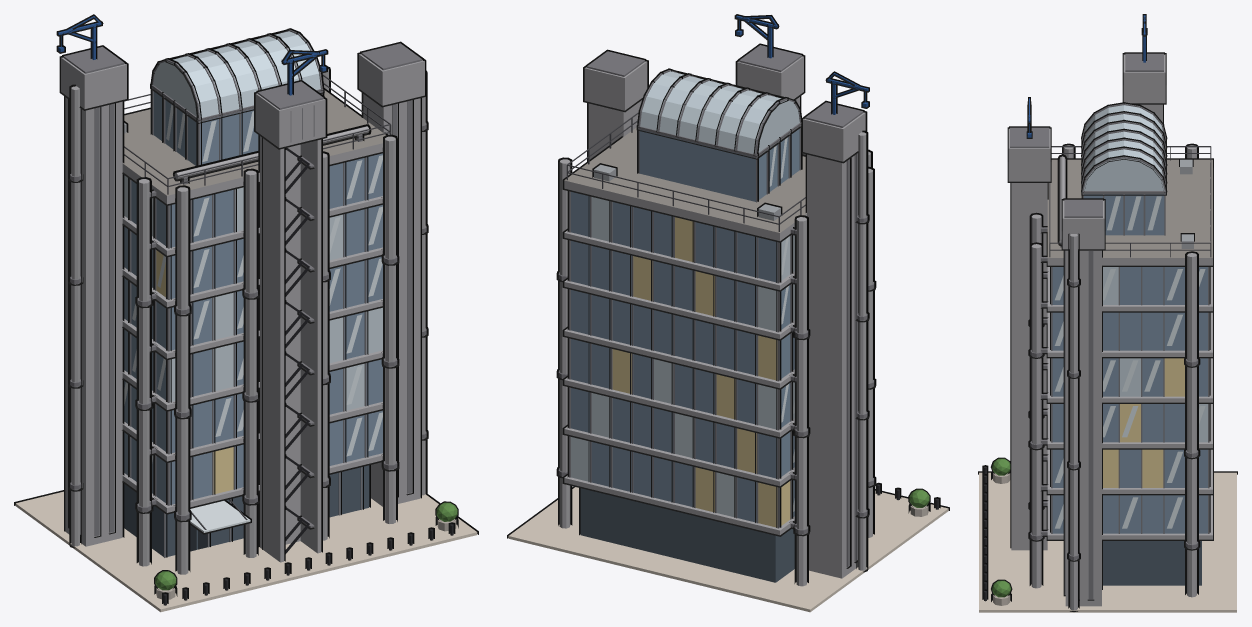
Rendered from OfisKulesi_karisik_1_1.fbx.
3 renders of one model, left to right at view 1: azimuth 30°, elevation 25°; view 2: azimuth 150°, elevation 25°; view 3: azimuth 270°, elevation 25°, orthographic. The views are drawn at different scales.
Visible parts, largest first — view 1: OfisKulesi_karisik_1_1; view 2: OfisKulesi_karisik_1_1; view 3: OfisKulesi_karisik_1_1.
Boxes of the visible parts, x1,y1,x2,y2 form: OfisKulesi_karisik_1_1: (14,14,478,612); OfisKulesi_karisik_1_1: (507,14,949,612); OfisKulesi_karisik_1_1: (978,14,1237,612).
Bounding box in the file's own units: 24.22 × 36.59 × 18.54.
